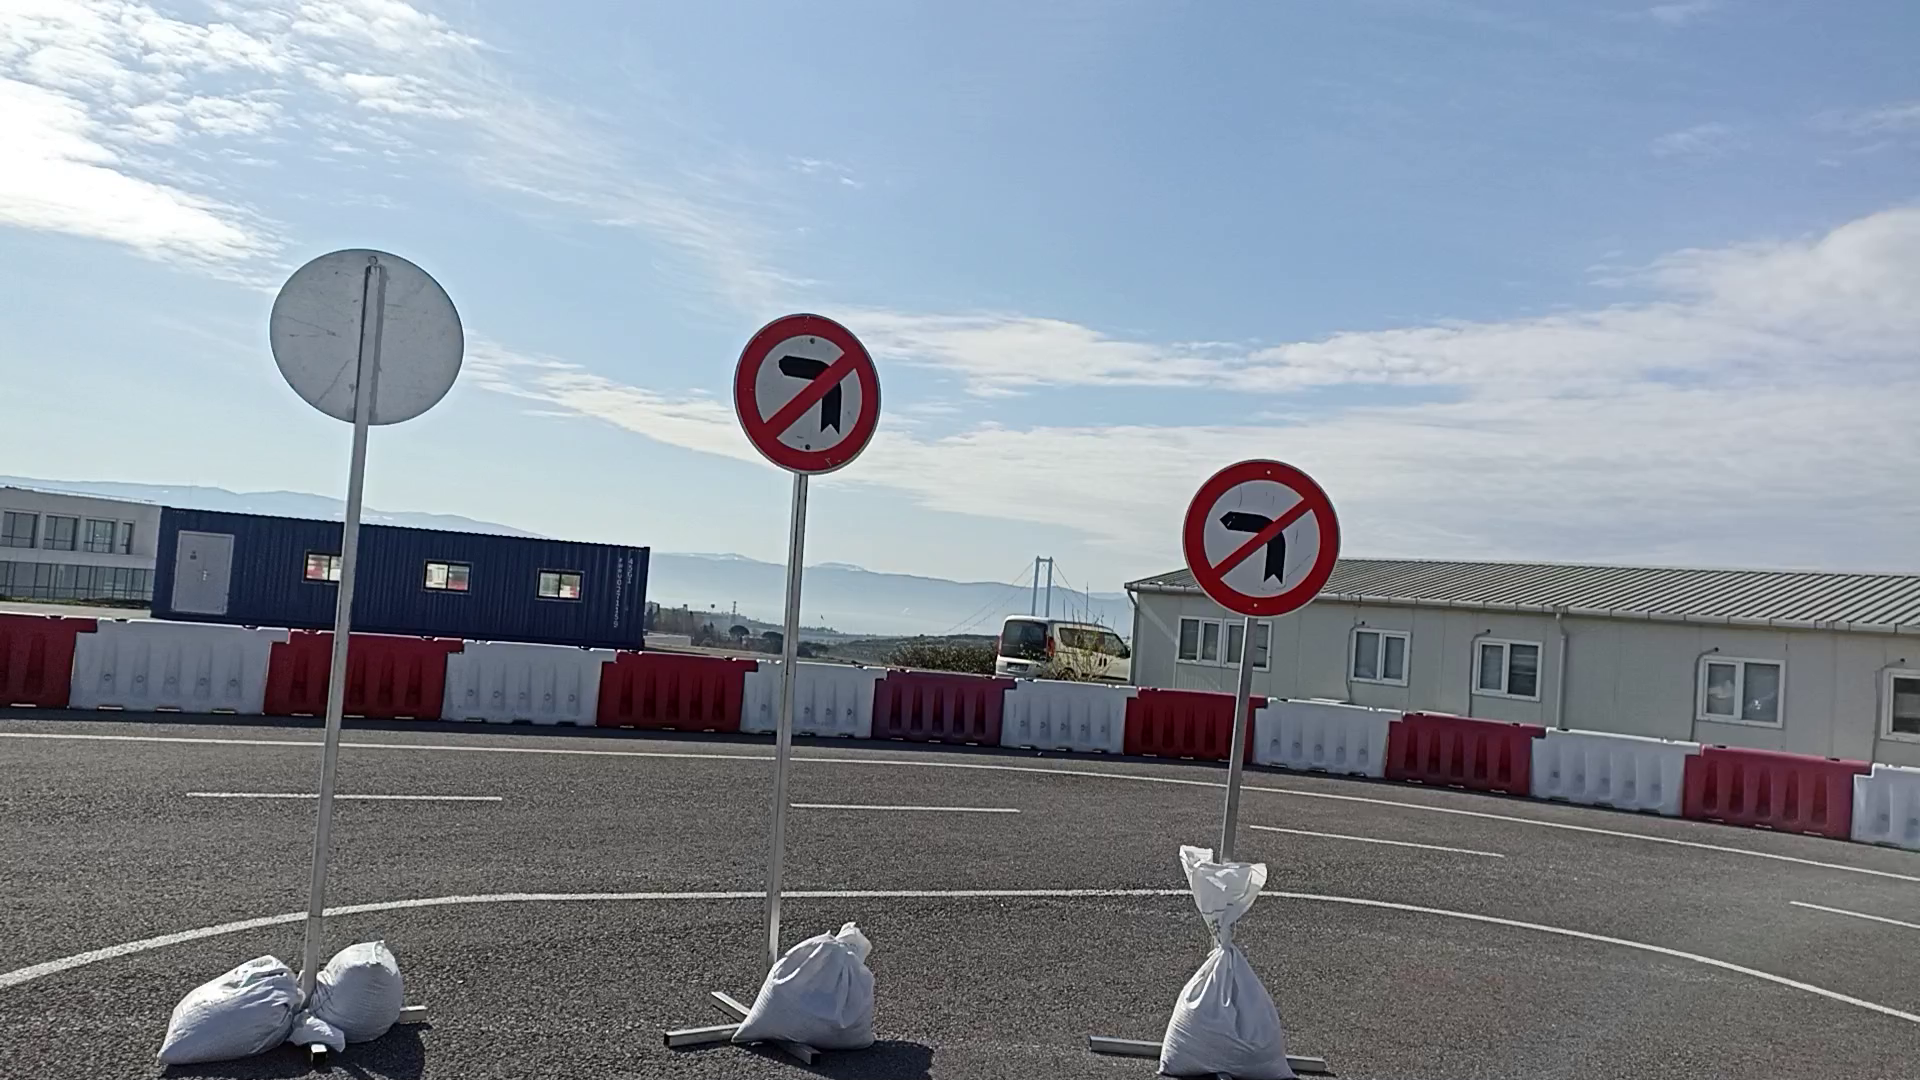noleft: (1180, 458, 1345, 620), (731, 310, 885, 477)
